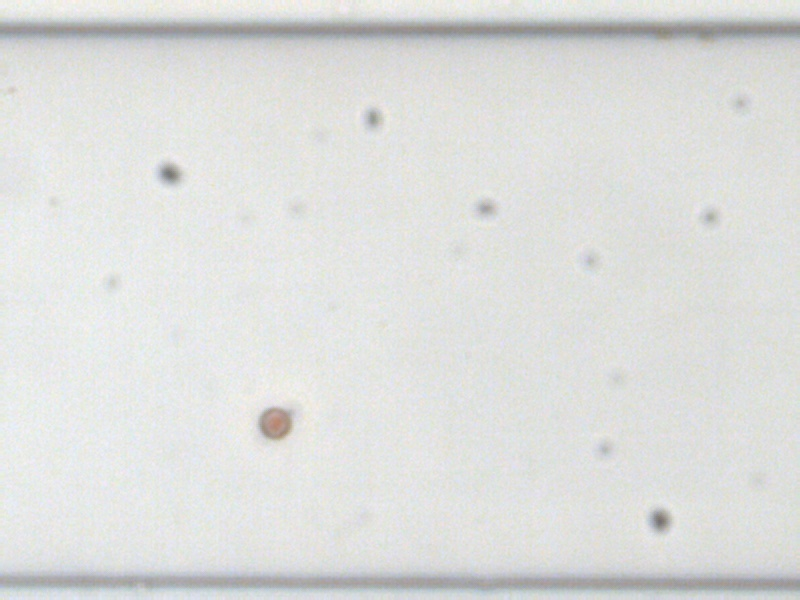Porphyridium: (258, 405, 292, 442)
